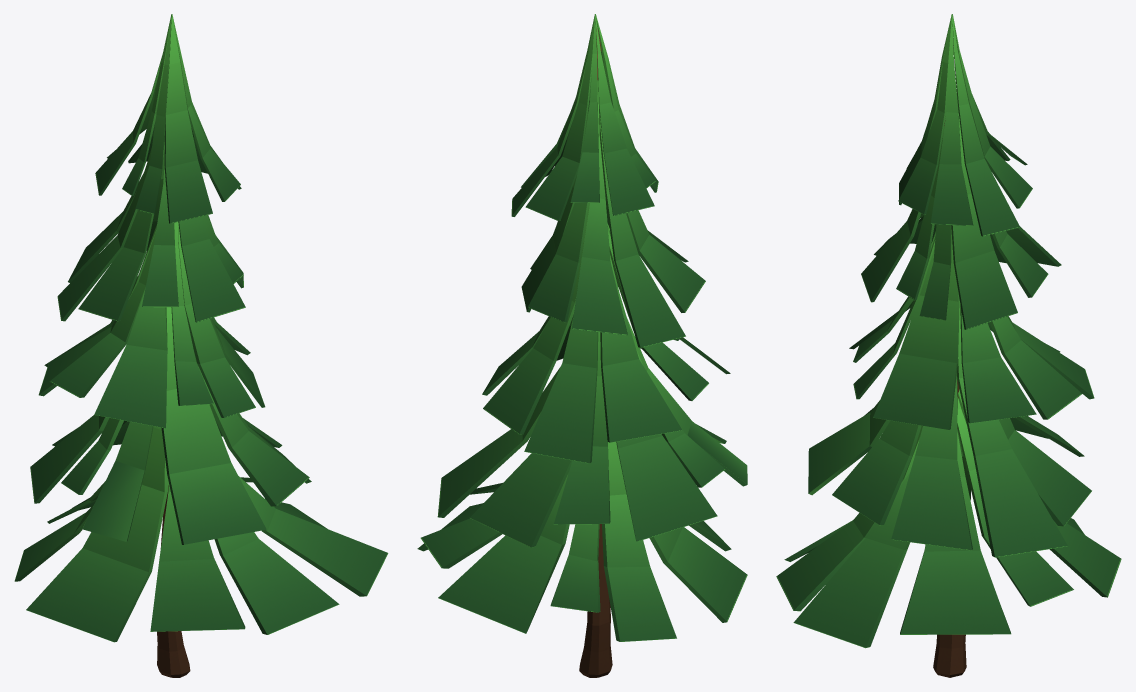
File: Tree.fbx
3 renders of one model, left to right at view 1: azimuth 30°, elevation 25°; view 2: azimuth 150°, elevation 25°; view 3: azimuth 270°, elevation 25°, orthographic.
Visible parts, largest first — view 1: Trunk_LOD0; view 2: Trunk_LOD0; view 3: Trunk_LOD0.
Part boxes in pixels (box(x1,y1,x2,y2)): Trunk_LOD0: box(14, 14, 388, 677); Trunk_LOD0: box(417, 14, 747, 677); Trunk_LOD0: box(776, 14, 1121, 677).
Size of what is drawn, in the model's own units: 240 by 483 by 230.
2 materials, 2 textured.
